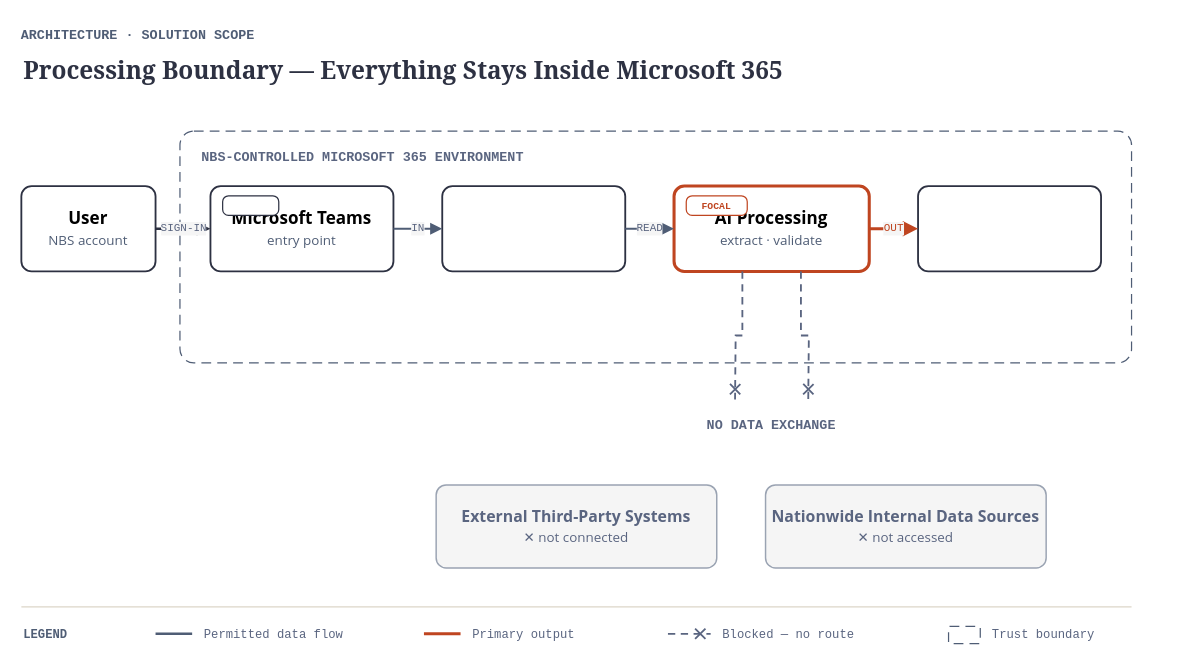
The diagram is 1182 pixels wide and 666 high, and some of its shapes have lost their labels. Here are the shapes that lost their labels. From the top down, the centre of each, then its label:
At (x=250, y=205): "GATE".
At (x=533, y=228): "NBS OneDrive source — IM & GDG".
At (x=1009, y=228): "NBS OneDrive destination — draft".
